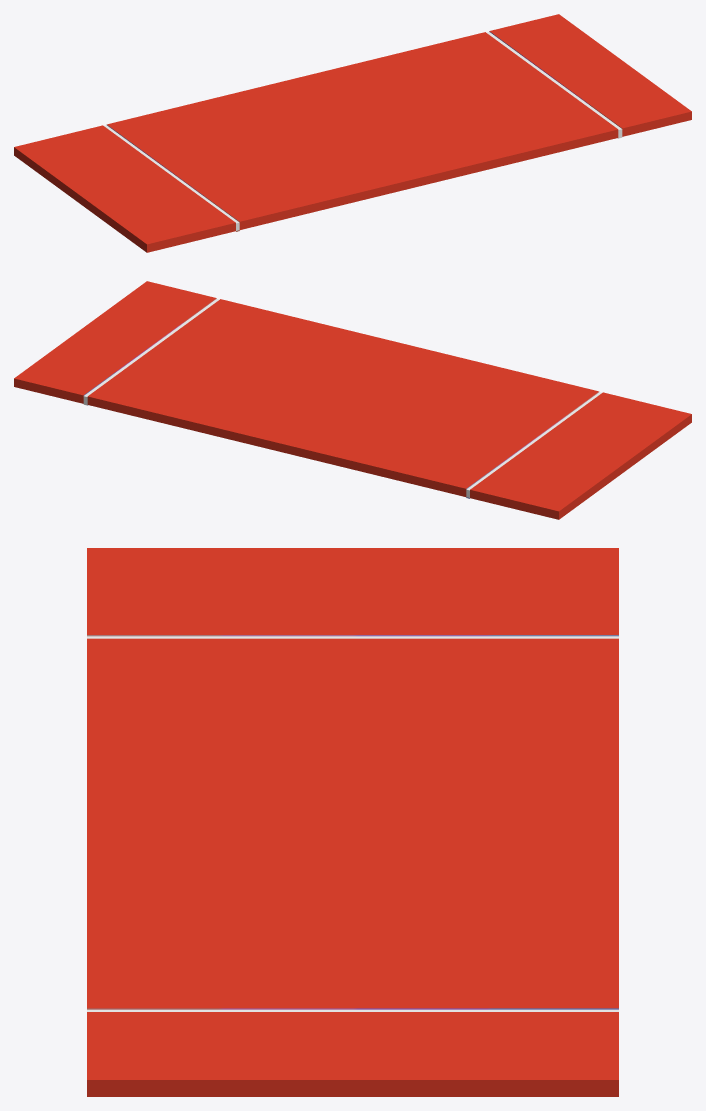
Rendered from toalla.fbx.
The picture shows the model from 3 angles, top to bottom: view 1: azimuth 30°, elevation 25°; view 2: azimuth 150°, elevation 25°; view 3: azimuth 270°, elevation 25°; orthographic projection. The views are drawn at different scales.
Parts seen in each view (by area): view 1: Cube; view 2: Cube; view 3: Cube.
Boxes of the visible parts, x1,y1,x2,y2 form: Cube: [14, 14, 691, 252]; Cube: [14, 281, 691, 519]; Cube: [87, 548, 618, 1096].
Bounding box in the file's own units: 540 × 8.71 × 228.
Materials: 1 (1 with a texture image).
